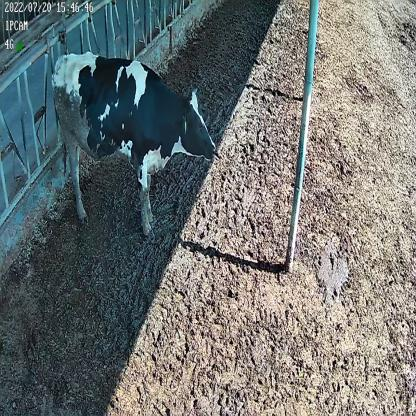cow: (51, 50, 217, 238)
